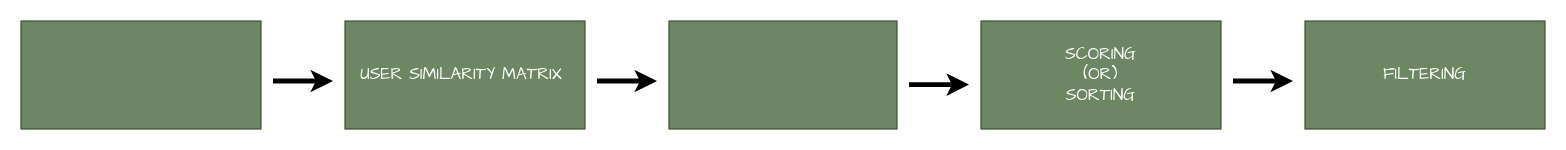
Image size: 1566x150. Some labels were removed from this diagram. Here are the shapes that lost their labels. From the top down, the box of each, then its label:
(20, 20, 261, 129): USER-ITEM RATED MATRIX
(668, 20, 897, 129): CANDIDATE GENERATION
